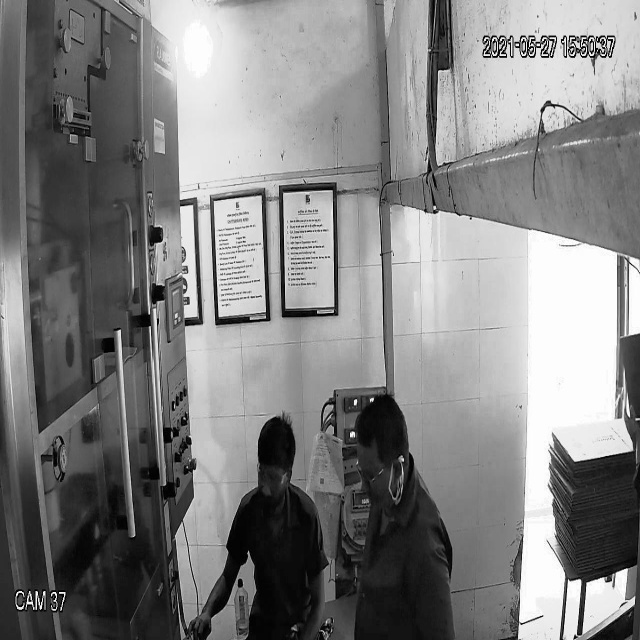Gafas: (255, 457, 294, 493)
